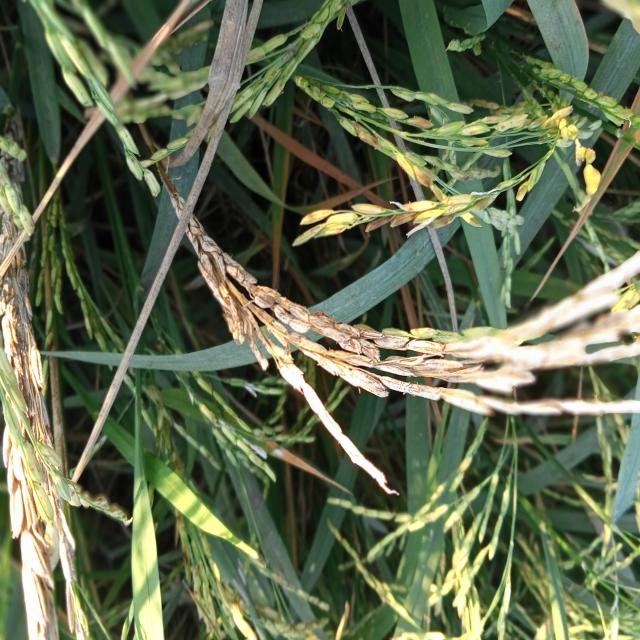Neck_Blast: (163, 188, 444, 402)
